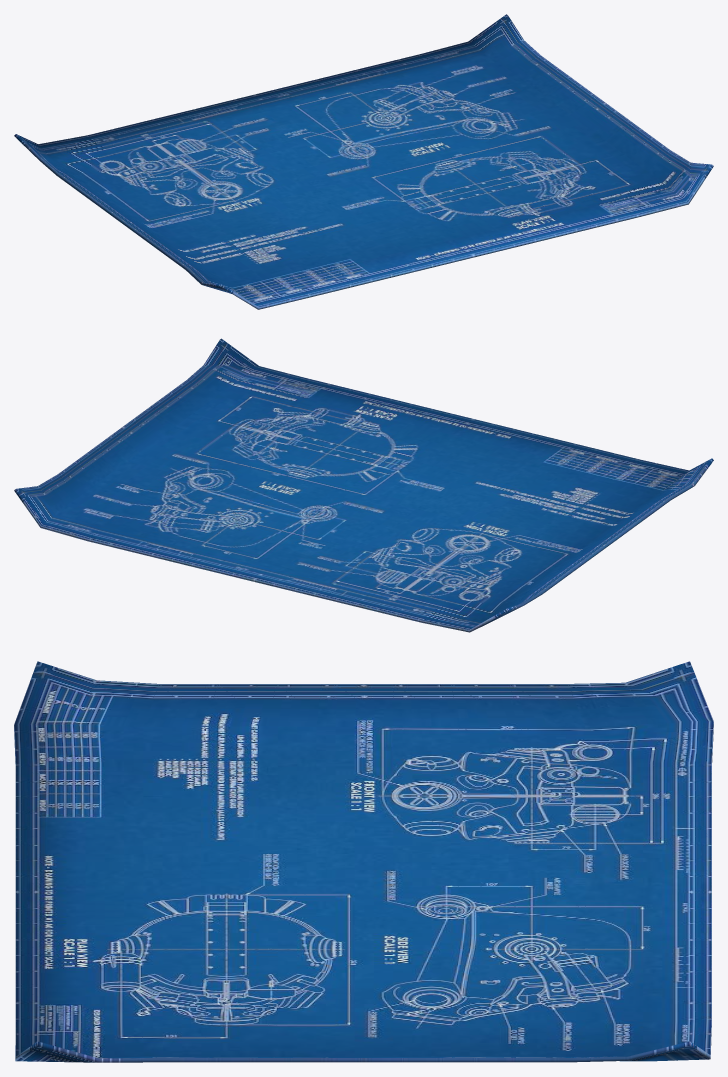
Rendered from BluePrint.fbx.
3 renders of one model, top to bottom at view 1: azimuth 30°, elevation 25°; view 2: azimuth 150°, elevation 25°; view 3: azimuth 270°, elevation 25°, orthographic. The views are drawn at different scales.
Parts seen in each view (by area): view 1: Plane.027; view 2: Plane.027; view 3: Plane.027.
Boxes of the visible parts, x1=… form: Plane.027: x1=14, y1=14, x2=713, y2=309; Plane.027: x1=14, y1=338, x2=713, y2=632; Plane.027: x1=14, y1=661, x2=713, y2=1062.
Bounding box in the file's own units: 1.19 × 0.9194 × 0.0646.
